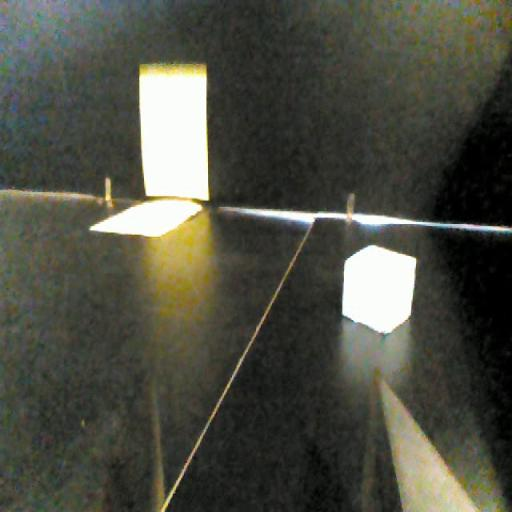cube: (336, 234, 418, 338)
